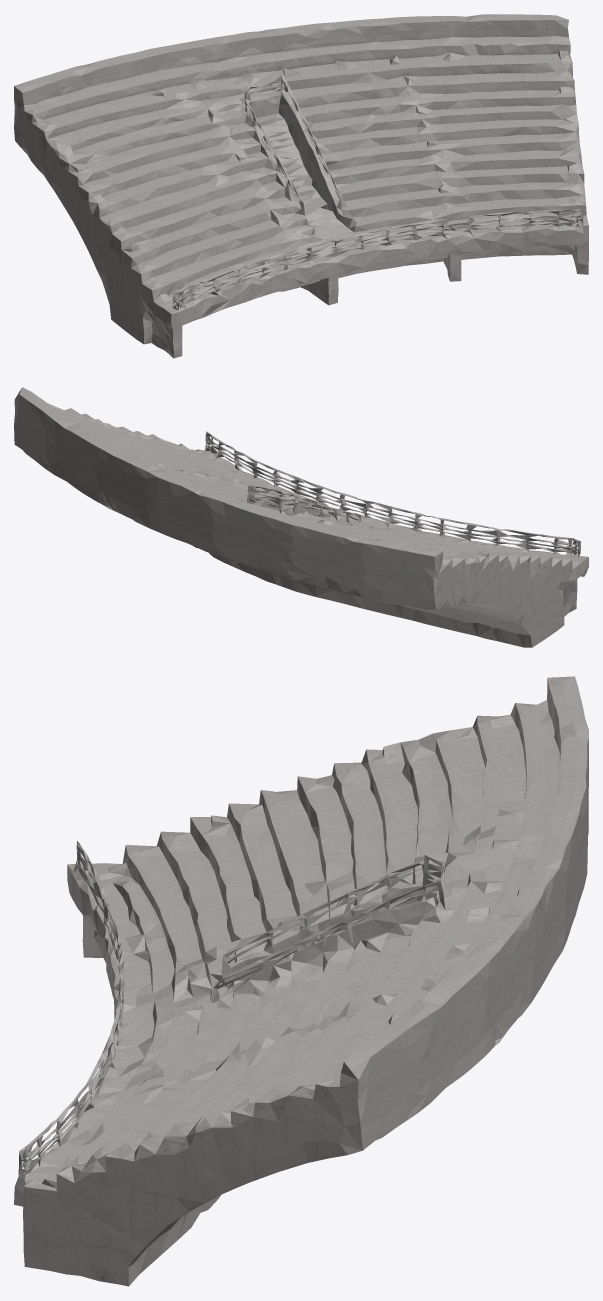
File: bleacher_concrete.glb
3 views of the same model, one above another, from view 1: azimuth 30°, elevation 25°; view 2: azimuth 150°, elevation 25°; view 3: azimuth 270°, elevation 25° (orthographic). The views are drawn at different scales.
Visible parts, largest first — view 1: m; view 2: m; view 3: m.
Part boxes in pixels (x1,y1,x2,y2): m: [14, 14, 588, 358]; m: [14, 387, 588, 647]; m: [14, 676, 588, 1286].
Size of the model in its own units: 12.37 by 4 by 7.76.
1 material, 1 textured.
